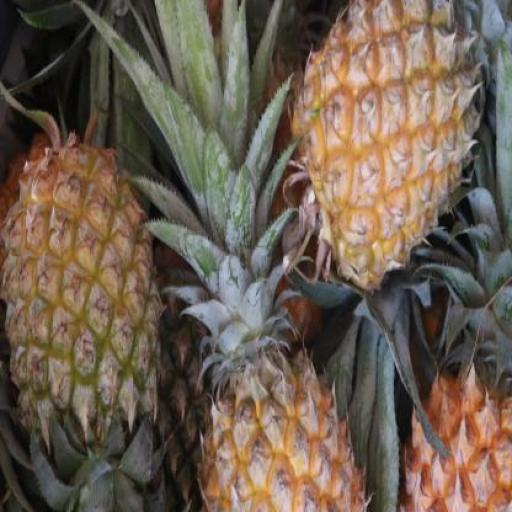------------------------------: (1, 140, 161, 438)
Pineapple - v8 v1: (285, 0, 494, 295), (193, 335, 371, 512), (400, 368, 512, 512)
